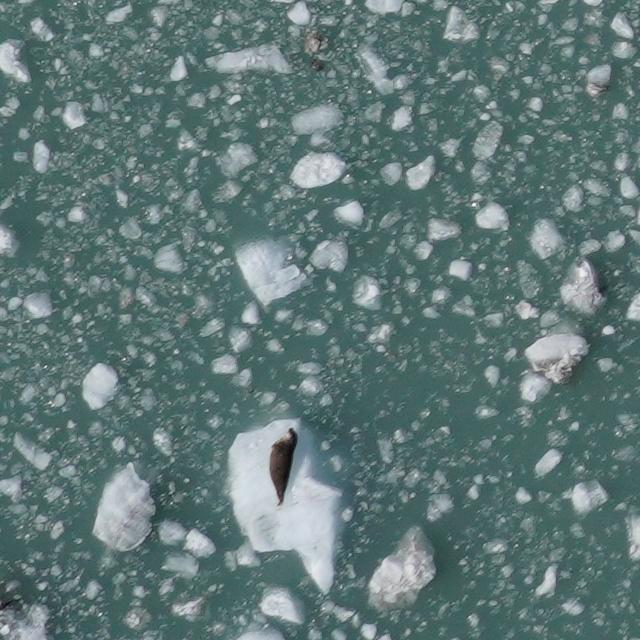seal: (266, 424, 301, 513)
